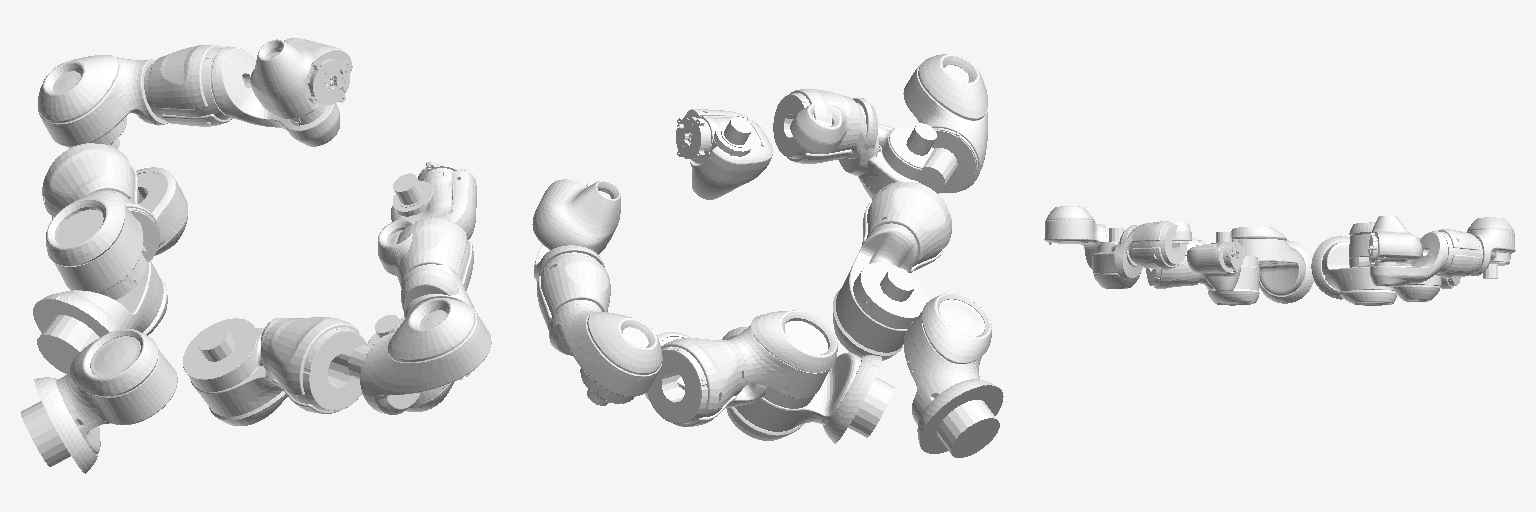
URDF robot description (irf):
<?xml version="1.0" encoding="utf-8"?>
<!-- This URDF was automatically created by SolidWorks to URDF Exporter! Originally created by [author] ([email redacted]) 
     Commit Version: 1.5.1-0-g916b5db  Build Version: 1.5.7152.31018
     For more information, please see http://wiki.ros.org/sw_urdf_exporter -->
<robot
  name="irf">
  <link
    name="base_link">
    <inertial>
      <origin
        xyz="0.0432097515452396 0.405251577347367 -0.00299400168680138"
        rpy="0 0 0" />
      <mass
        value="10.233377644213" />
      <inertia
        ixx="0.804842864865789"
        ixy="-0.0256156799949306"
        ixz="-0.00222927366676388"
        iyy="0.834173111082281"
        iyz="0.00337573008953868"
        izz="0.0819167999324251" />
    </inertial>
    <visual>
      <origin
        xyz="0 0 0"
        rpy="0 0 0" />
      <geometry>
        <mesh
          filename="package://irf/meshes/B.STL" />
      </geometry>
      <material
        name="">
        <color
          rgba="1 1 1 1" />
      </material>
    </visual>
    <collision>
      <origin
        xyz="0 0 0"
        rpy="0 0 0" />
      <geometry>
        <mesh
          filename="package://irf/meshes/B.STL" />
      </geometry>
    </collision>
  </link>
  <link
    name="1L">
    <inertial>
      <origin
        xyz="0.095092 0.063757 0.046646"
        rpy="0 0 0" />
      <mass
        value="0.96286" />
      <inertia
        ixx="0.0025114"
        ixy="-0.00099938"
        ixz="-0.00029768"
        iyy="0.0020287"
        iyz="-0.00052712"
        izz="0.0032283" />
    </inertial>
    <visual>
      <origin
        xyz="0 0 0"
        rpy="0 0 0" />
      <geometry>
        <mesh
          filename="package://irf/meshes/1L.STL" />
      </geometry>
      <material
        name="">
        <color
          rgba="1 1 1 1" />
      </material>
    </visual>
    <collision>
      <origin
        xyz="0 0 0"
        rpy="0 0 0" />
      <geometry>
        <mesh
          filename="package://irf/meshes/1L.STL" />
      </geometry>
    </collision>
  </link>
  <joint
    name="01L"
    type="revolute">
    <origin
      xyz="-0.0057377 0.047589 0.38069"
      rpy="-0.65168 -0.39991 -0.28481" />
    <parent
      link="base_link" />
    <child
      link="1L" />
    <axis
      xyz="0.8138 0.34202 0.46985" />
    <limit
      lower="-0.9654"
      upper="0.9654"
      effort="0"
      velocity="0" />
  </joint>
  <link
    name="2L">
    <inertial>
      <origin
        xyz="0.0610667544332947 0.0013097610461078 0.0300993385685875"
        rpy="0 0 0" />
      <mass
        value="1.41045545917515" />
      <inertia
        ixx="0.00263880799476841"
        ixy="-0.00177608777138155"
        ixz="-0.000931723672554234"
        iyy="0.00657289010800137"
        iyz="-0.000326915650334568"
        izz="0.00712428675803793" />
    </inertial>
    <visual>
      <origin
        xyz="0 0 0"
        rpy="0 0 0" />
      <geometry>
        <mesh
          filename="package://irf/meshes/2L.STL" />
      </geometry>
      <material
        name="">
        <color
          rgba="1 1 1 1" />
      </material>
    </visual>
    <collision>
      <origin
        xyz="0 0 0"
        rpy="0 0 0" />
      <geometry>
        <mesh
          filename="package://irf/meshes/2L.STL" />
      </geometry>
    </collision>
  </link>
  <joint
    name="12L"
    type="revolute">
    <origin
      xyz="0.12122 0.076728 0.096038"
      rpy="-1.4686 -0.326 2.4813" />
    <parent
      link="1L" />
    <child
      link="2L" />
    <axis
      xyz="0.10678 0.70672 -0.69939" />
    <limit
      lower="0.8914"
      upper="2.06"
      effort="0"
      velocity="0" />
  </joint>
  <link
    name="3L">
    <inertial>
      <origin
        xyz="0.197984270837337 0.0835293747523087 0.0760650224676813"
        rpy="0 0 0" />
      <mass
        value="0.710813617750004" />
      <inertia
        ixx="0.000777777220300467"
        ixy="-0.000300175305443745"
        ixz="0.000207929878219907"
        iyy="0.00177392252781561"
        iyz="-2.01013356450046E-05"
        izz="0.00187544952023338" />
    </inertial>
    <visual>
      <origin
        xyz="0 0 0"
        rpy="0 0 0" />
      <geometry>
        <mesh
          filename="package://irf/meshes/3L.STL" />
      </geometry>
      <material
        name="">
        <color
          rgba="1 1 1 1" />
      </material>
    </visual>
    <collision>
      <origin
        xyz="0 0 0"
        rpy="0 0 0" />
      <geometry>
        <mesh
          filename="package://irf/meshes/3L.STL" />
      </geometry>
    </collision>
  </link>
  <joint
    name="23L"
    type="revolute">
    <origin
      xyz="0.015536 -0.018591 -0.017844"
      rpy="-0.00079928 -0.00033614 -0.00046138" />
    <parent
      link="2L" />
    <child
      link="3L" />
    <axis
      xyz="0.8138 0.34202 0.46985" />
    <limit
      lower="-0.9654"
      upper="0.9654"
      effort="0"
      velocity="0" />
  </joint>
  <link
    name="4L">
    <inertial>
      <origin
        xyz="0.0487175675538375 -0.0379552865392929 -0.00849182174280072"
        rpy="0 0 0" />
      <mass
        value="1.18079192762883" />
      <inertia
        ixx="0.00281471564575568"
        ixy="0.00103168841450297"
        ixz="0.00177027780429407"
        iyy="0.0050886154112469"
        iyz="-0.000671798238753022"
        izz="0.00430840622417132" />
    </inertial>
    <visual>
      <origin
        xyz="0 0 0"
        rpy="0 0 0" />
      <geometry>
        <mesh
          filename="package://irf/meshes/4L.STL" />
      </geometry>
      <material
        name="">
        <color
          rgba="1 1 1 1" />
      </material>
    </visual>
    <collision>
      <origin
        xyz="0 0 0"
        rpy="0 0 0" />
      <geometry>
        <mesh
          filename="package://irf/meshes/4L.STL" />
      </geometry>
    </collision>
  </link>
  <joint
    name="34L"
    type="revolute">
    <origin
      xyz="0.2295 0.061646 0.09733"
      rpy="-0.041579 0.46212 -0.47621" />
    <parent
      link="3L" />
    <child
      link="4L" />
    <axis
      xyz="0.10678 0.70672 -0.69939" />
    <limit
      lower="-1.0192"
      upper="0.77"
      effort="0"
      velocity="0" />
  </joint>
  <link
    name="5L">
    <inertial>
      <origin
        xyz="0.0349083824249974 -0.024034435513511 -0.0587362677038758"
        rpy="0 0 0" />
      <mass
        value="0.343419516713393" />
      <inertia
        ixx="0.000749998495979765"
        ixy="4.91705207040867E-05"
        ixz="0.000202915429970131"
        iyy="0.00078322174037831"
        iyz="-0.000179735339601591"
        izz="0.000342239768300716" />
    </inertial>
    <visual>
      <origin
        xyz="0 0 0"
        rpy="0 0 0" />
      <geometry>
        <mesh
          filename="package://irf/meshes/5L.STL" />
      </geometry>
      <material
        name="">
        <color
          rgba="1 1 1 1" />
      </material>
    </visual>
    <collision>
      <origin
        xyz="0 0 0"
        rpy="0 0 0" />
      <geometry>
        <mesh
          filename="package://irf/meshes/5L.STL" />
      </geometry>
    </collision>
  </link>
  <joint
    name="45L"
    type="revolute">
    <origin
      xyz="0.115196356607472 -0.0753070608732511 -0.0585084857542666"
      rpy="-0.0171887920517601 0.0189406911212764 0.0161881718975502" />
    <parent
      link="4L" />
    <child
      link="5L" />
    <axis
      xyz="0.571254638611826 -0.619332914863809 -0.538604565920834" />
    <limit
      lower="-1.6616"
      upper="1.6616"
      effort="0"
      velocity="0" />
  </joint>
  <link
    name="6L">
    <inertial>
      <origin
        xyz="0.00122768102868831 0.00533254114395265 0.0183464255060394"
        rpy="0 0 0" />
      <mass
        value="0.465741945501003" />
      <inertia
        ixx="0.000473250964262392"
        ixy="-1.62872634620573E-05"
        ixz="-5.55836676624634E-06"
        iyy="0.000461365565686226"
        iyz="-2.613467132457E-05"
        izz="0.000526117734640779" />
    </inertial>
    <visual>
      <origin
        xyz="0 0 0"
        rpy="0 0 0" />
      <geometry>
        <mesh
          filename="package://irf/meshes/6L.STL" />
      </geometry>
      <material
        name="">
        <color
          rgba="1 1 1 1" />
      </material>
    </visual>
    <collision>
      <origin
        xyz="0 0 0"
        rpy="0 0 0" />
      <geometry>
        <mesh
          filename="package://irf/meshes/6L.STL" />
      </geometry>
    </collision>
  </link>
  <joint
    name="56L"
    type="revolute">
    <origin
      xyz="0.0471728145210148 -0.0841993484533884 -0.0778791980350019"
      rpy="-0.0103654032994117 0.357314140710582 -0.357295616611069" />
    <parent
      link="5L" />
    <child
      link="6L" />
    <axis
      xyz="0.106777674107038 0.706717031146258 -0.69939228348625" />
    <limit
      lower="-0.5042"
      upper="0.7907"
      effort="0"
      velocity="0" />
  </joint>
  <link
    name="7L">
    <inertial>
      <origin
        xyz="0.0145775749188172 -0.0156460411510579 -0.0138374953785575"
        rpy="0 0 0" />
      <mass
        value="0.0309424125499957" />
      <inertia
        ixx="7.84956912990824E-06"
        ixy="-4.8157205488837E-07"
        ixz="-3.50805986591918E-07"
        iyy="7.93520057879367E-06"
        iyz="4.76208575180469E-07"
        izz="7.7095527912141E-06" />
    </inertial>
    <visual>
      <origin
        xyz="0 0 0"
        rpy="0 0 0" />
      <geometry>
        <mesh
          filename="package://irf/meshes/7L.STL" />
      </geometry>
      <material
        name="">
        <color
          rgba="1 1 1 1" />
      </material>
    </visual>
    <collision>
      <origin
        xyz="0 0 0"
        rpy="0 0 0" />
      <geometry>
        <mesh
          filename="package://irf/meshes/7L.STL" />
      </geometry>
    </collision>
  </link>
  <joint
    name="67L"
    type="revolute">
    <origin
      xyz="0.022079315069325 0.00994126089859926 0.0119864580985115"
      rpy="1.31235264605213 -0.294889504789811 -1.27042178310482" />
    <parent
      link="6L" />
    <child
      link="7L" />
    <axis
      xyz="0.571254638614449 -0.619332914870399 -0.538604565910475" />
    <limit
      lower="-1.3121"
      upper="1.3121"
      effort="0"
      velocity="0.0" />
  </joint>
  <link
    name="1R">
    <inertial>
      <origin
        xyz="0.0639742893254454 -0.0205397001720959 0.0110720168670653"
        rpy="0 0 0" />
      <mass
        value="0.92686" />
      <inertia
        ixx="0.002748"
        ixy="0.00012019"
        ixz="-0.0009761"
        iyy="0.0033"
        iyz="0.00030432"
        izz="0.0017204" />
    </inertial>
    <visual>
      <origin
        xyz="0 0 0"
        rpy="0 0 0" />
      <geometry>
        <mesh
          filename="package://irf/meshes/1R.STL" />
      </geometry>
      <material
        name="">
        <color
          rgba="1 1 1 1" />
      </material>
    </visual>
    <collision>
      <origin
        xyz="0 0 0"
        rpy="0 0 0" />
      <geometry>
        <mesh
          filename="package://irf/meshes/1R.STL" />
      </geometry>
    </collision>
  </link>
  <joint
    name="01R"
    type="revolute">
    <origin
      xyz="-0.0905970285494174 -0.0119241865590318 0.331693781179444"
      rpy="0.661249391678768 -0.407079130841712 0.287099256033239" />
    <parent
      link="base_link" />
    <child
      link="1R" />
    <axis
      xyz="0.813797681347725 -0.3420201433221 0.469846310398407" />
    <limit
      lower="-0.9654"
      upper="0.9654"
      effort="0"
      velocity="0" />
  </joint>
  <link
    name="2R">
    <inertial>
      <origin
        xyz="0.0639742893254454 -0.0205397001720959 0.0110720168670653"
        rpy="0 0 0" />
      <mass
        value="1.41053215466353" />
      <inertia
        ixx="0.00309527372756795"
        ixy="0.000210901349981174"
        ixz="-0.00233596016635195"
        iyy="0.0073001811977481"
        iyz="8.87437060326788E-05"
        izz="0.00594084345351202" />
    </inertial>
    <visual>
      <origin
        xyz="0 0 0"
        rpy="0 0 0" />
      <geometry>
        <mesh
          filename="package://irf/meshes/2R.STL" />
      </geometry>
      <material
        name="">
        <color
          rgba="1 1 1 1" />
      </material>
    </visual>
    <collision>
      <origin
        xyz="0 0 0"
        rpy="0 0 0" />
      <geometry>
        <mesh
          filename="package://irf/meshes/2R.STL" />
      </geometry>
    </collision>
  </link>
  <joint
    name="12R"
    type="revolute">
    <origin
      xyz="0.20607785829111 -0.112392243464449 0.145031664519265"
      rpy="1.47821664003411 -0.309277896876161 -2.50290546025724" />
    <parent
      link="1R" />
    <child
      link="2R" />
    <axis
      xyz="0.106777674127034 -0.706717031145236 -0.699392283484229" />
    <limit
      lower="-2.06"
      upper="-0.8914"
      effort="0"
      velocity="0" />
  </joint>
  <link
    name="3R">
    <inertial>
      <origin
        xyz="0.114182970426199 -0.0129956186602496 0.0687060955832561"
        rpy="0 0 0" />
      <mass
        value="0.718724825102295" />
      <inertia
        ixx="0.00099760544328756"
        ixy="-0.000354124156746618"
        ixz="-0.000455084676404323"
        iyy="0.00186485222572588"
        iyz="-7.98777509745565E-05"
        izz="0.00171995345193881" />
    </inertial>
    <visual>
      <origin
        xyz="0 0 0"
        rpy="0 0 0" />
      <geometry>
        <mesh
          filename="package://irf/meshes/3R.STL" />
      </geometry>
      <material
        name="">
        <color
          rgba="1 1 1 1" />
      </material>
    </visual>
    <collision>
      <origin
        xyz="0 0 0"
        rpy="0 0 0" />
      <geometry>
        <mesh
          filename="package://irf/meshes/3R.STL" />
      </geometry>
    </collision>
  </link>
  <joint
    name="23R"
    type="revolute">
    <origin
      xyz="0.0915183890471042 -0.0120186622456074 0.0275466493971784"
      rpy="-0.039448450188403 0.0160500394071166 -0.0229876231436337" />
    <parent
      link="2R" />
    <child
      link="3R" />
    <axis
      xyz="0.813797681351336 -0.34202014335914 0.469846310365191" />
    <limit
      lower="-0.9654"
      upper="0.9654"
      effort="0"
      velocity="0" />
  </joint>
  <link
    name="4R">
    <inertial>
      <origin
        xyz="0.052066776511191 0.0157894489164649 -0.0304284017404126"
        rpy="0 0 0" />
      <mass
        value="1.18080282713249" />
      <inertia
        ixx="0.00314259364468856"
        ixy="-0.00201508218075675"
        ixz="0.000618971266665444"
        iyy="0.0037443540475257"
        iyz="0.000520143088171732"
        izz="0.00532484117781641" />
    </inertial>
    <visual>
      <origin
        xyz="0 0 0"
        rpy="0 0 0" />
      <geometry>
        <mesh
          filename="package://irf/meshes/4R.STL" />
      </geometry>
      <material
        name="">
        <color
          rgba="1 1 1 1" />
      </material>
    </visual>
    <collision>
      <origin
        xyz="0 0 0"
        rpy="0 0 0" />
      <geometry>
        <mesh
          filename="package://irf/meshes/4R.STL" />
      </geometry>
    </collision>
  </link>
  <joint
    name="34R"
    type="revolute">
    <origin
      xyz="0.15236620264851 -0.0292295290745919 0.0527977154113355"
      rpy="0.0717762948550856 0.530708904391656 0.562616525117697" />
    <parent
      link="3R" />
    <child
      link="4R" />
    <axis
      xyz="0.106777674130013 -0.706717031141072 -0.699392283487982" />
    <limit
      lower="-0.64"
      upper="1.3"
      effort="0"
      velocity="0" />
  </joint>
  <link
    name="5R">
    <inertial>
      <origin
        xyz="0.0692040115916974 0.106981671857258 -0.0577571148838366"
        rpy="0 0 0" />
      <mass
        value="0.343456193438038" />
      <inertia
        ixx="0.000794474671934646"
        ixy="-0.000159191627522876"
        ixz="2.29914657096625E-05"
        iyy="0.000290564336271819"
        iyz="0.000162383904474214"
        izz="0.000790380943986039" />
    </inertial>
    <visual>
      <origin
        xyz="0 0 0"
        rpy="0 0 0" />
      <geometry>
        <mesh
          filename="package://irf/meshes/5R.STL" />
      </geometry>
      <material
        name="">
        <color
          rgba="1 1 1 1" />
      </material>
    </visual>
    <collision>
      <origin
        xyz="0 0 0"
        rpy="0 0 0" />
      <geometry>
        <mesh
          filename="package://irf/meshes/5R.STL" />
      </geometry>
    </collision>
  </link>
  <joint
    name="45R"
    type="revolute">
    <origin
      xyz="0.0713634822125091 0.0277850981332976 -0.0171808807510679"
      rpy="0.00444066455296555 0.00483466417264907 -0.00418566420803987" />
    <parent
      link="4R" />
    <child
      link="5R" />
    <axis
      xyz="0.571254638611776 0.619332914864763 -0.53860456591979" />
    <limit
      lower="-1.6616"
      upper="1.6616"
      effort="0"
      velocity="0" />
  </joint>
  <link
    name="6R">
    <inertial>
      <origin
        xyz="0.00327322421771459 -0.0188892472289734 0.00470169779707026"
        rpy="0 0 0" />
      <mass
        value="0.47028030766964" />
      <inertia
        ixx="0.000492904812453101"
        ixy="-4.31535809717165E-06"
        ixz="-1.65378405487454E-05"
        iyy="0.000530175526706953"
        iyz="1.71971255993553E-05"
        izz="0.000467508316828687" />
    </inertial>
    <visual>
      <origin
        xyz="0 0 0"
        rpy="0 0 0" />
      <geometry>
        <mesh
          filename="package://irf/meshes/6R.STL" />
      </geometry>
      <material
        name="">
        <color
          rgba="1 1 1 1" />
      </material>
    </visual>
    <collision>
      <origin
        xyz="0 0 0"
        rpy="0 0 0" />
      <geometry>
        <mesh
          filename="package://irf/meshes/6R.STL" />
      </geometry>
    </collision>
  </link>
  <joint
    name="56R"
    type="revolute">
    <origin
      xyz="0.087412497123785 0.127825707411432 -0.115818980607626"
      rpy="-0.00730342604387015 0.0604081215420703 0.0593475847532015" />
    <parent
      link="5R" />
    <child
      link="6R" />
    <axis
      xyz="0.10677767414999 -0.706717031153939 -0.69939228347193" />
    <limit
      lower="-0.5042"
      upper="0.7907"
      effort="0"
      velocity="0" />
  </joint>
  <link
    name="7R">
    <inertial>
      <origin
        xyz="0.0179570483998224 0.0195670692295885 -0.0168424515209229"
        rpy="0 0 0" />
      <mass
        value="0.0416752660026345" />
      <inertia
        ixx="1.04299799612481E-05"
        ixy="1.02543554054114E-06"
        ixz="-9.32461856719596E-07"
        iyy="1.04727947058894E-05"
        iyz="-1.04344179723226E-06"
        izz="1.03158136340792E-05" />
    </inertial>
    <visual>
      <origin
        xyz="0 0 0"
        rpy="0 0 0" />
      <geometry>
        <mesh
          filename="package://irf/meshes/7R.STL" />
      </geometry>
      <material
        name="">
        <color
          rgba="1 1 1 1" />
      </material>
    </visual>
    <collision>
      <origin
        xyz="0 0 0"
        rpy="0 0 0" />
      <geometry>
        <mesh
          filename="package://irf/meshes/7R.STL" />
      </geometry>
    </collision>
  </link>
  <joint
    name="67R"
    type="revolute">
    <origin
      xyz="0.0220793150687765 -0.00994126090174002 0.0119864580948938"
      rpy="0.666032477367434 1.15259582967801 -0.511862372677926" />
    <parent
      link="6R" />
    <child
      link="7R" />
    <axis
      xyz="0.571254638614754 0.619332914870736 -0.538604565909764" />
    <limit
      lower="-1.3121"
      upper="1.3121"
      effort="0"
      velocity="0" />
  </joint>
</robot>

--- Facts derived from the render (not from the file) ---
Views: 3 orthographic renders of the robot side by side, from view 1: azimuth 30°, elevation 25°; view 2: azimuth 150°, elevation 25°; view 3: azimuth 270°, elevation 25°.
Model irf with 15 links and 14 joints (14 revolute), rooted at base_link, posed all joints at 0 but 2 set to mid-range because 0 is outside their limits (12L = 1.48, 12R = -1.48).
Links seen in each view (by area): view 1: 2R, 4L, 2L, 1R, 3R, 1L, 4R, 6L, 5L, 6R, 3L, 5R (+1 smaller); view 2: 2L, 2R, 1R, 4L, 3R, 4R, 1L, 6L, 6R, 5R, 7R, 3L (+1 smaller); view 3: 1R, 4R, 4L, 1L, 2R, 5L, 3R, 6R, 6L, 2L, 5R, 3L.
Boxes of the visible links, x1,y1,x2,y2 form: 2R: (183, 317, 367, 425); 4L: (38, 45, 231, 148); 2L: (42, 143, 146, 299); 1R: (21, 329, 177, 473); 3R: (348, 298, 491, 414); 1L: (33, 260, 167, 373); 4R: (367, 217, 473, 411); 6L: (250, 38, 352, 122); 5L: (211, 46, 339, 146); 6R: (391, 170, 476, 239); 3L: (124, 167, 187, 261); 5R: (378, 219, 475, 317); 2L: (647, 310, 837, 426); 2R: (833, 182, 951, 360); 1R: (904, 293, 1003, 457); 4L: (537, 254, 662, 405); 3R: (903, 54, 987, 193); 4R: (773, 89, 936, 198); 1L: (726, 352, 894, 443); 6L: (532, 179, 620, 254); 6R: (684, 109, 772, 199); 5R: (790, 103, 878, 175); 7R: (676, 117, 710, 158); 3L: (644, 327, 767, 408); 1R: (1231, 227, 1313, 303); 4R: (1092, 221, 1186, 288); 4L: (1435, 217, 1515, 278); 1L: (1311, 235, 1396, 305); 2R: (1146, 238, 1259, 305); 5L: (1370, 231, 1447, 286); 3R: (1044, 206, 1108, 268); 6R: (1187, 232, 1240, 290); 6L: (1372, 216, 1422, 263); 2L: (1349, 222, 1460, 288); 5R: (1114, 222, 1191, 279); 3L: (1359, 257, 1441, 301).
Size in the robot's own frame: 0.535 by 0.9106 by 0.3635 metres.
Meshes: 15 distinct files referenced, 14 mesh visuals loaded (14 binary STL); not drawn: 1 (reference not matched to a file when rendering).